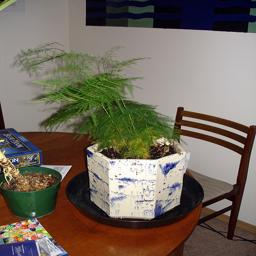chair: (194, 128, 256, 256)
diningtable: (22, 136, 256, 256)
pottedplant: (21, 126, 256, 256), (1, 178, 93, 256)
